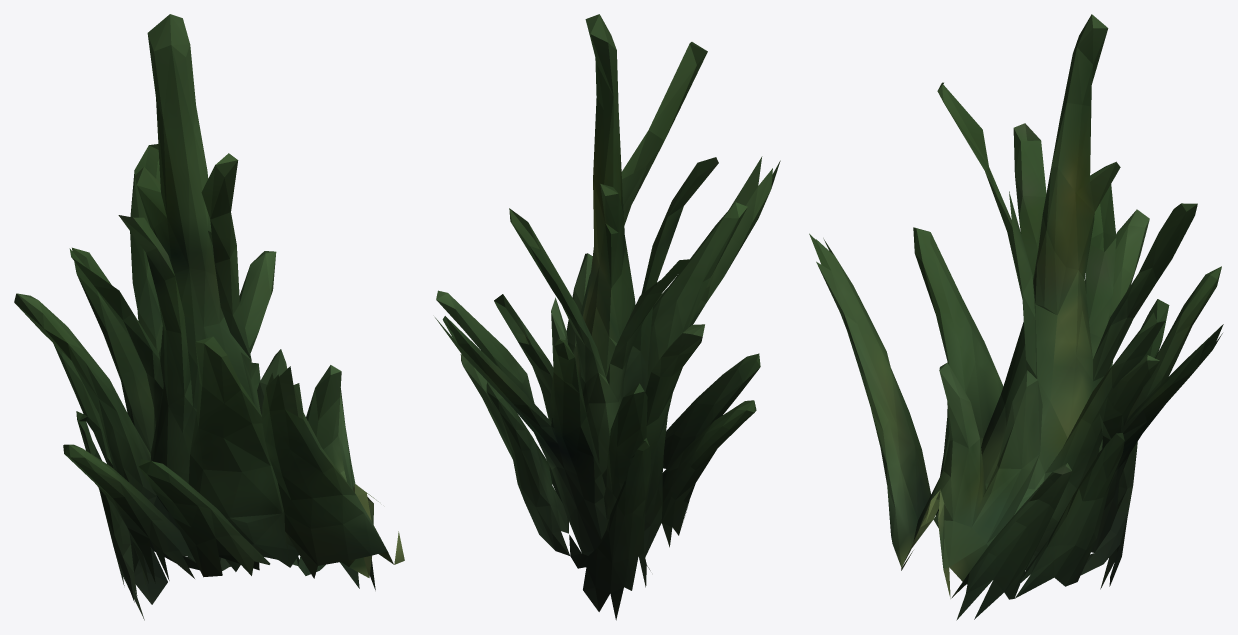
The model's file is terrain3_plant_2.glb.
3 renders of one model, left to right at view 1: azimuth 30°, elevation 25°; view 2: azimuth 150°, elevation 25°; view 3: azimuth 270°, elevation 25°, orthographic. The views are drawn at different scales.
Visible parts, largest first — view 1: plant_2; view 2: plant_2; view 3: plant_2.
Part boxes in pixels (<box>): plant_2: <box>14,14,404,620</box>; plant_2: <box>435,14,780,620</box>; plant_2: <box>809,14,1223,620</box>.
Size of the model in its own units: 5.66 by 11.4 by 7.31.
1 material, 1 textured.
